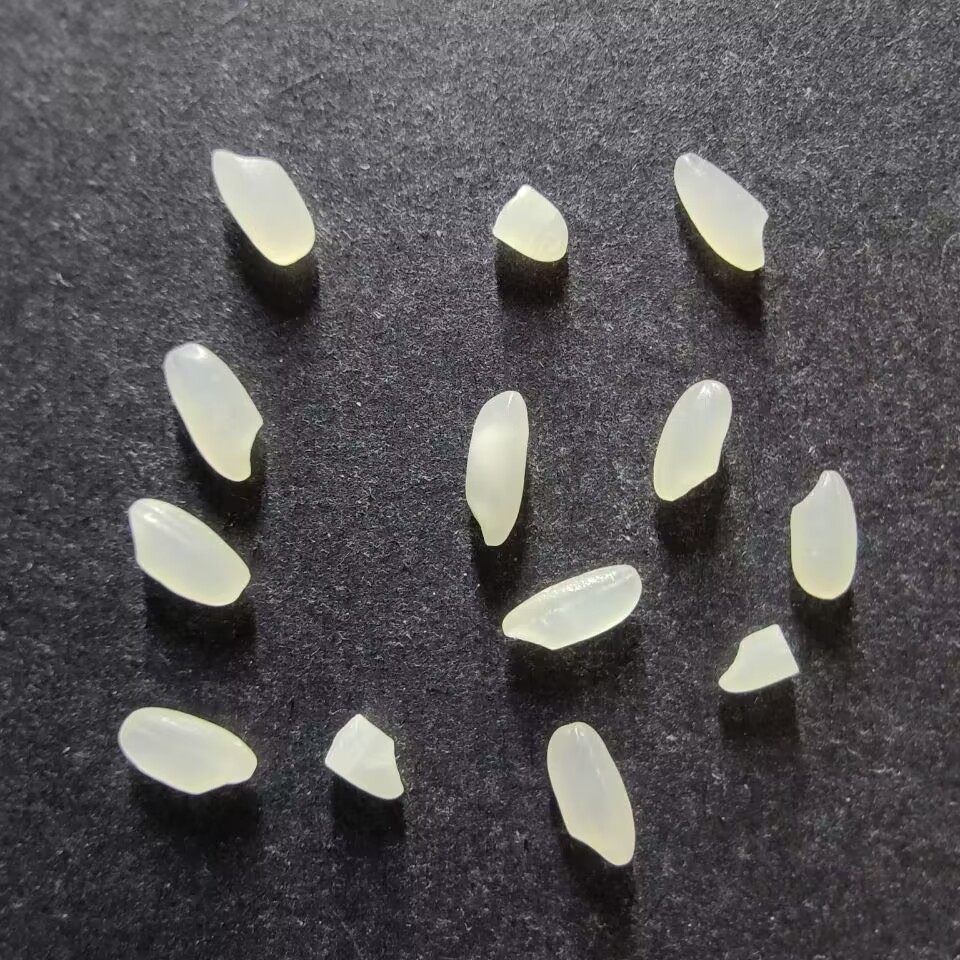broken: (323, 713, 404, 800), (490, 184, 568, 262), (718, 623, 799, 694)
rice: (163, 342, 264, 482), (128, 497, 249, 606), (545, 722, 635, 866), (500, 563, 641, 650), (118, 706, 257, 794), (210, 149, 315, 265), (672, 152, 768, 273), (463, 390, 528, 547), (652, 379, 731, 501), (788, 470, 858, 600)
